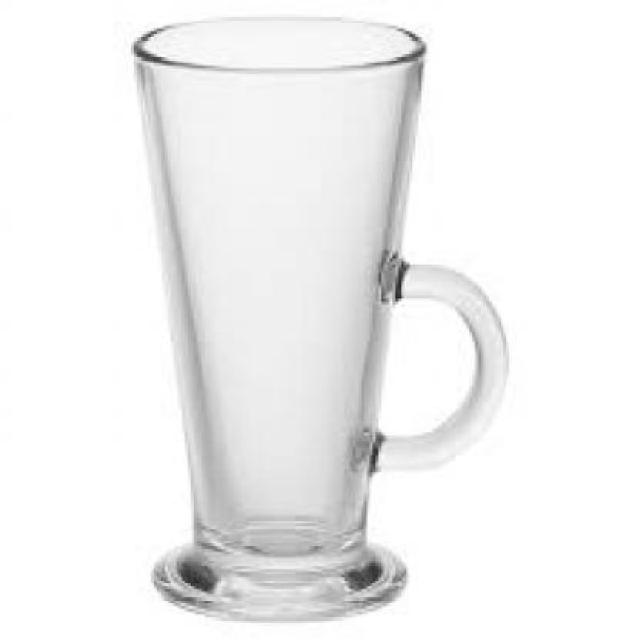kaca: (131, 14, 503, 617)
